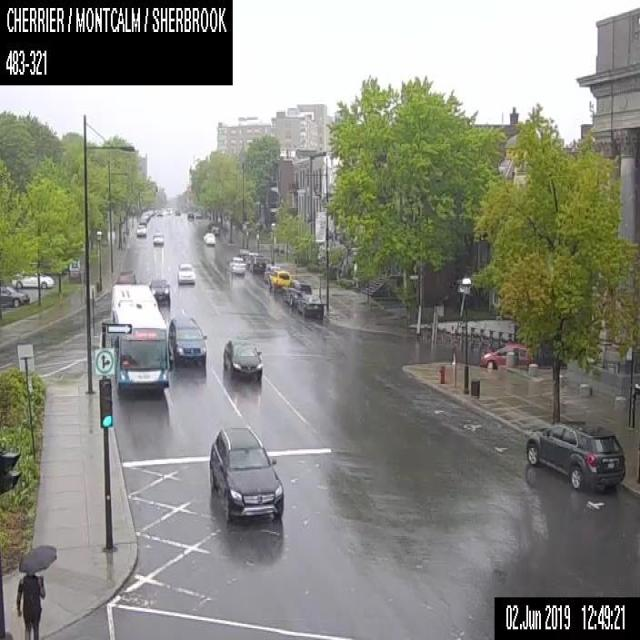bus: (110, 284, 172, 393)
pedestrian: (15, 542, 57, 638)
vehicle: (210, 426, 284, 520), (524, 419, 624, 488), (168, 316, 206, 365), (477, 342, 539, 368), (223, 340, 261, 379), (281, 279, 312, 306), (11, 269, 53, 287), (297, 293, 324, 317), (0, 285, 29, 307), (149, 279, 169, 301), (268, 269, 290, 289), (176, 262, 195, 283), (227, 255, 245, 273), (262, 263, 279, 281), (248, 256, 266, 273), (245, 252, 258, 268), (203, 232, 215, 245), (152, 232, 163, 245), (238, 248, 249, 260), (135, 224, 146, 236), (210, 225, 220, 234), (187, 210, 194, 220), (138, 218, 146, 225), (174, 209, 180, 215)
